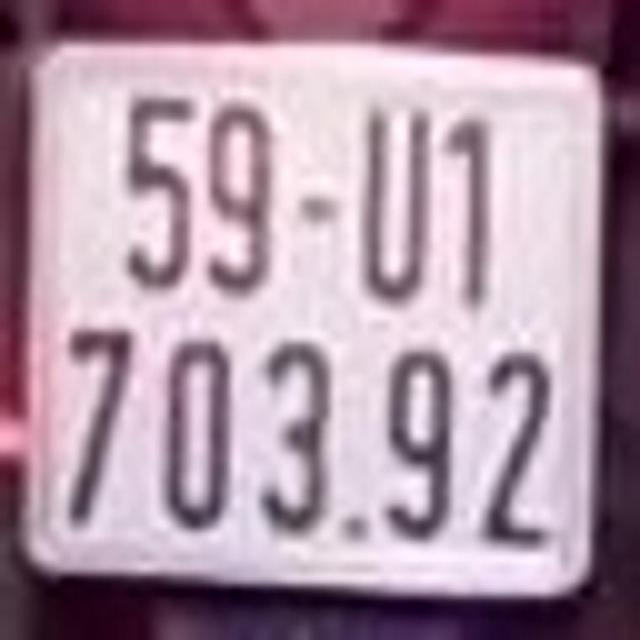0: (169, 340, 234, 526)
1: (448, 111, 493, 308)
2: (485, 350, 556, 548)
3: (259, 346, 333, 529)
5: (128, 95, 188, 284)
7: (63, 332, 138, 516)
9: (388, 348, 452, 538), (211, 101, 271, 292)
U: (364, 100, 430, 296)
